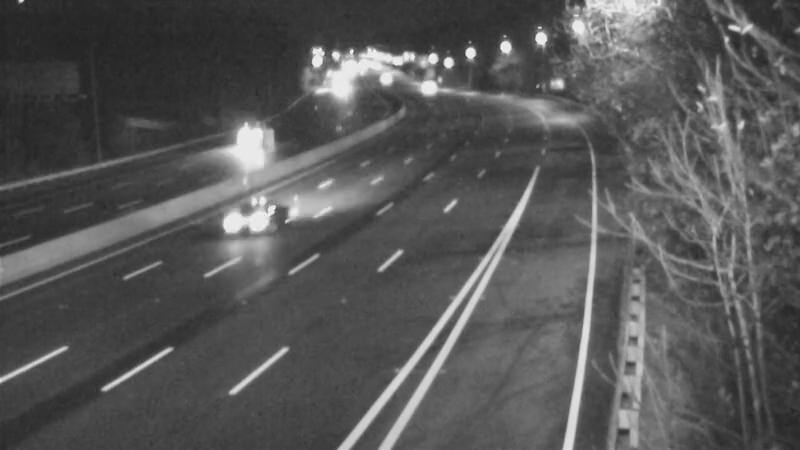vehicle: (203, 175, 283, 255), (402, 61, 452, 111), (216, 114, 266, 164)
